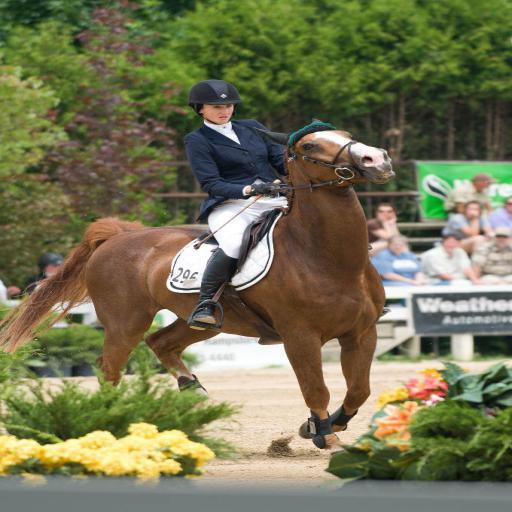horse: (0, 128, 398, 448)
